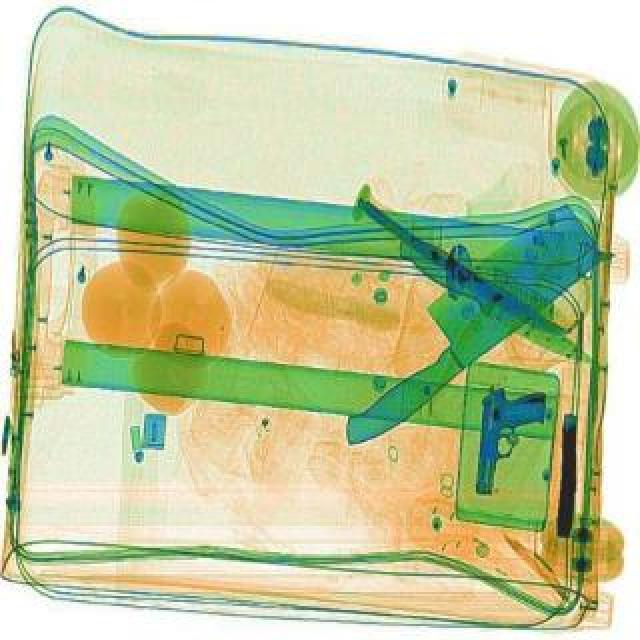gun: (474, 382, 550, 496), (560, 414, 582, 538)
knife: (306, 196, 618, 452), (390, 224, 606, 376), (356, 198, 576, 342)
